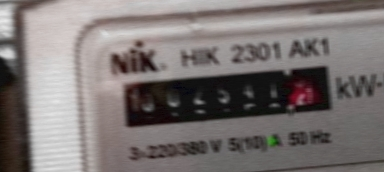0: (135, 86, 155, 113), (163, 81, 179, 109)
1: (262, 72, 277, 100)
2: (187, 79, 205, 105)
4: (239, 75, 253, 99)
5: (212, 76, 232, 106)
6: (291, 87, 307, 106)
screen: (108, 50, 345, 138)
